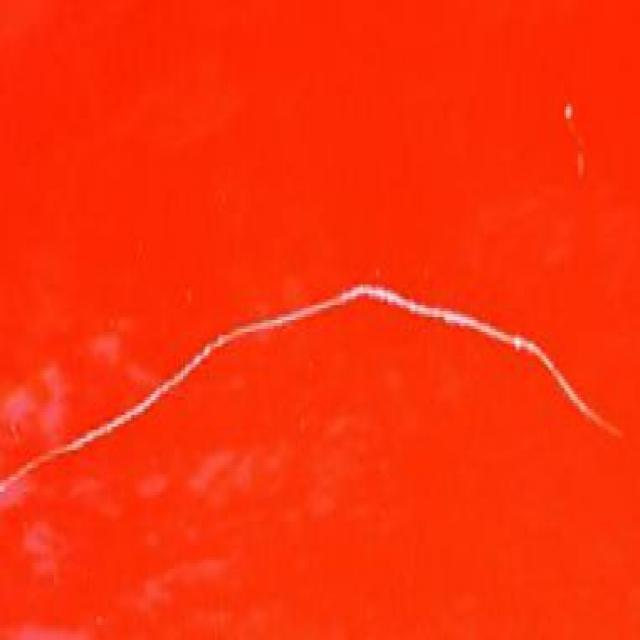scratch: (0, 278, 623, 506)
